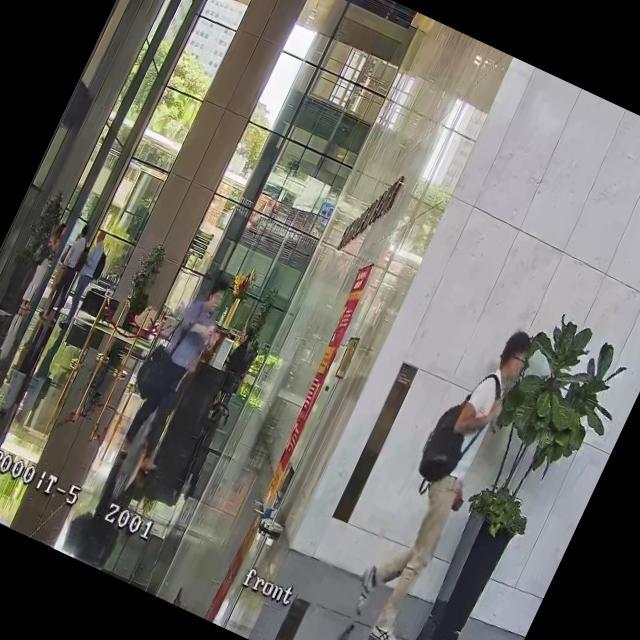person: (334, 311, 543, 640), (116, 268, 243, 473), (55, 230, 116, 332), (39, 223, 95, 320), (16, 218, 71, 314), (218, 325, 258, 391)
